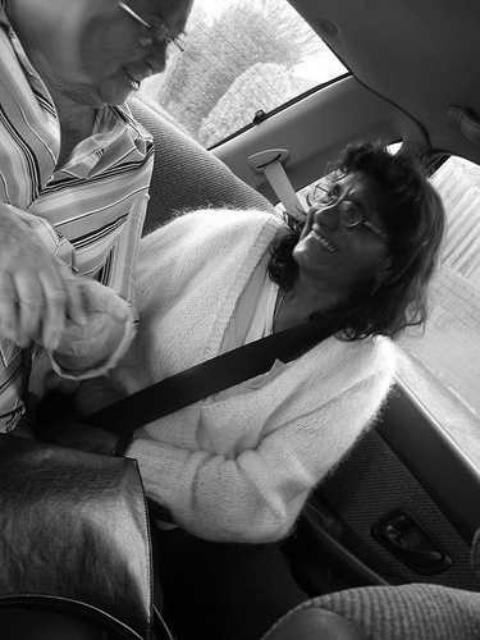Seatbelt: (81, 296, 359, 436)
